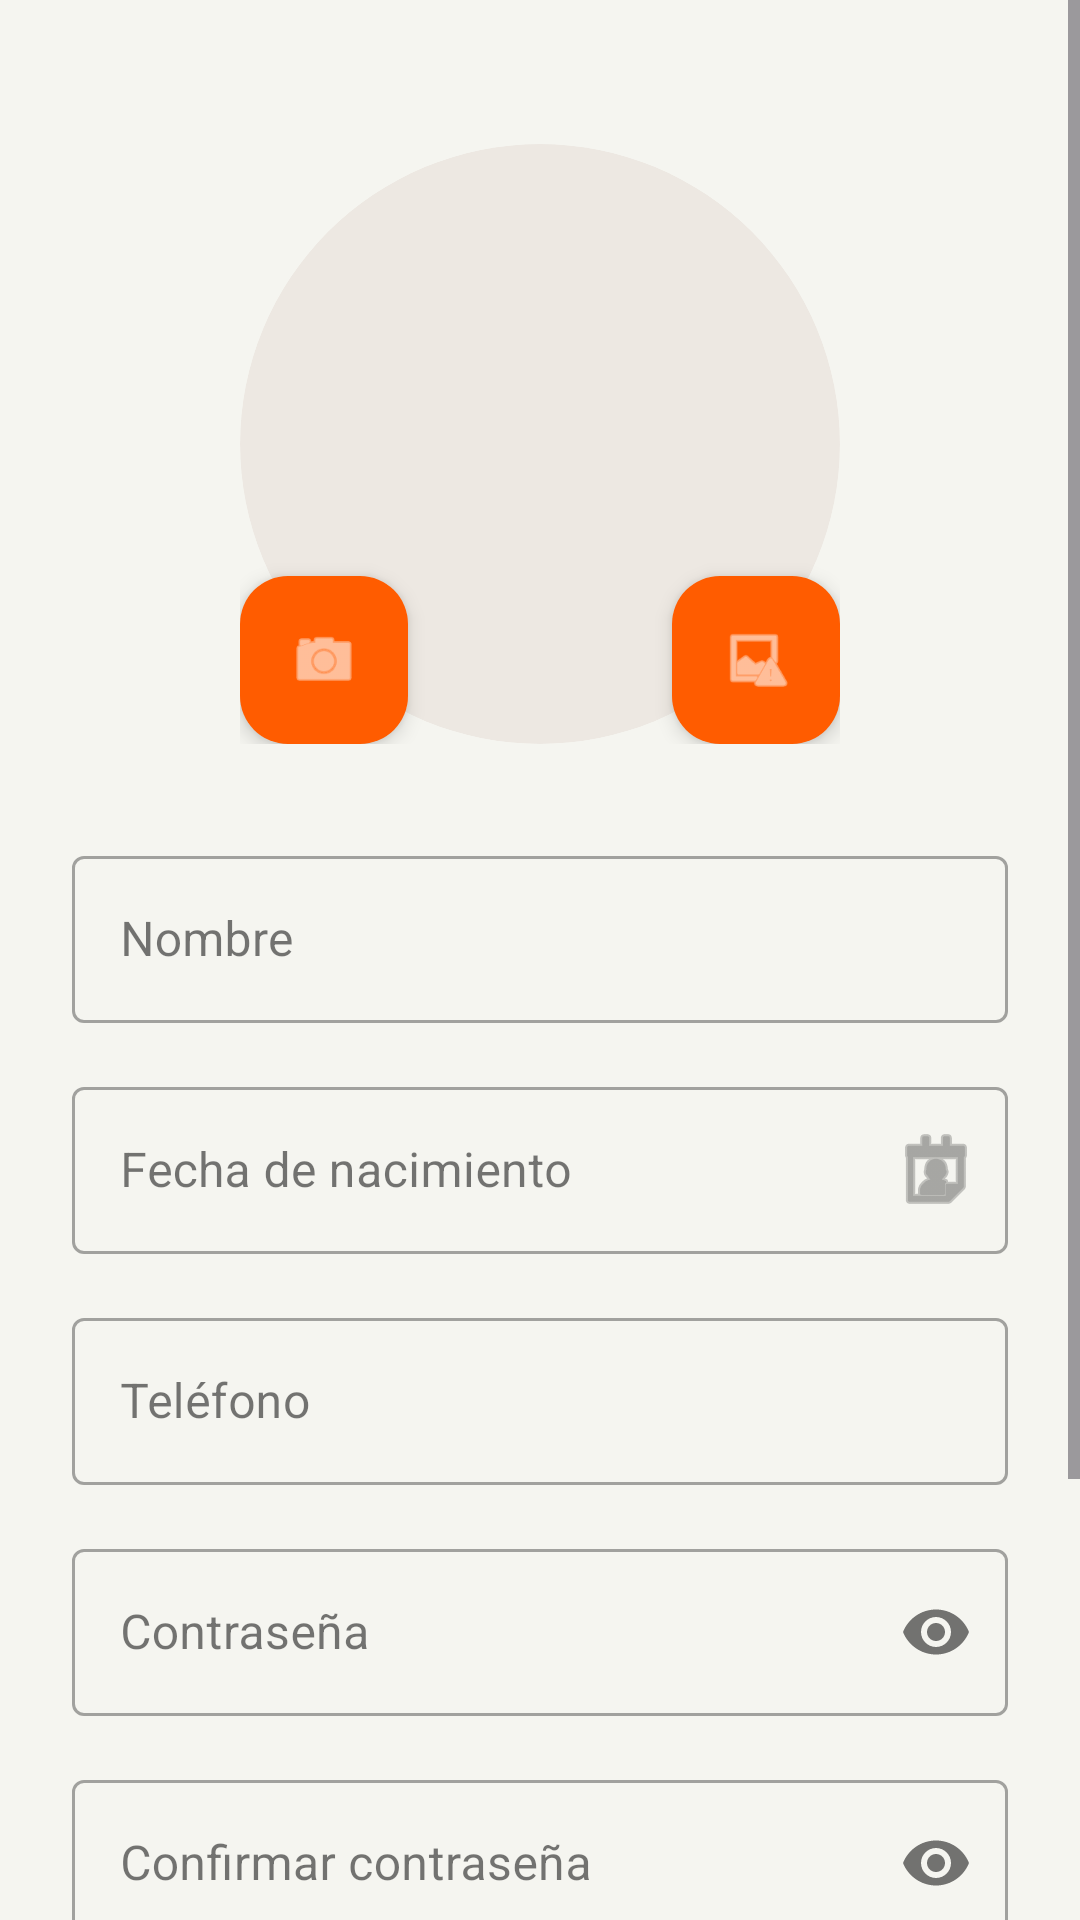

Named icons in this screenshot (1080 x 1920) and their bounding boxes, rect(x1, y1, x2, y2):
camera: rect(240, 576, 408, 744)
report: rect(672, 576, 840, 744)
